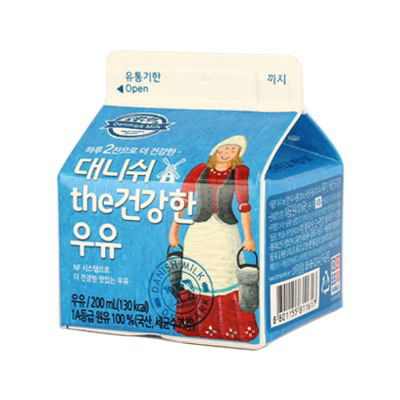milk: (57, 50, 345, 350)
